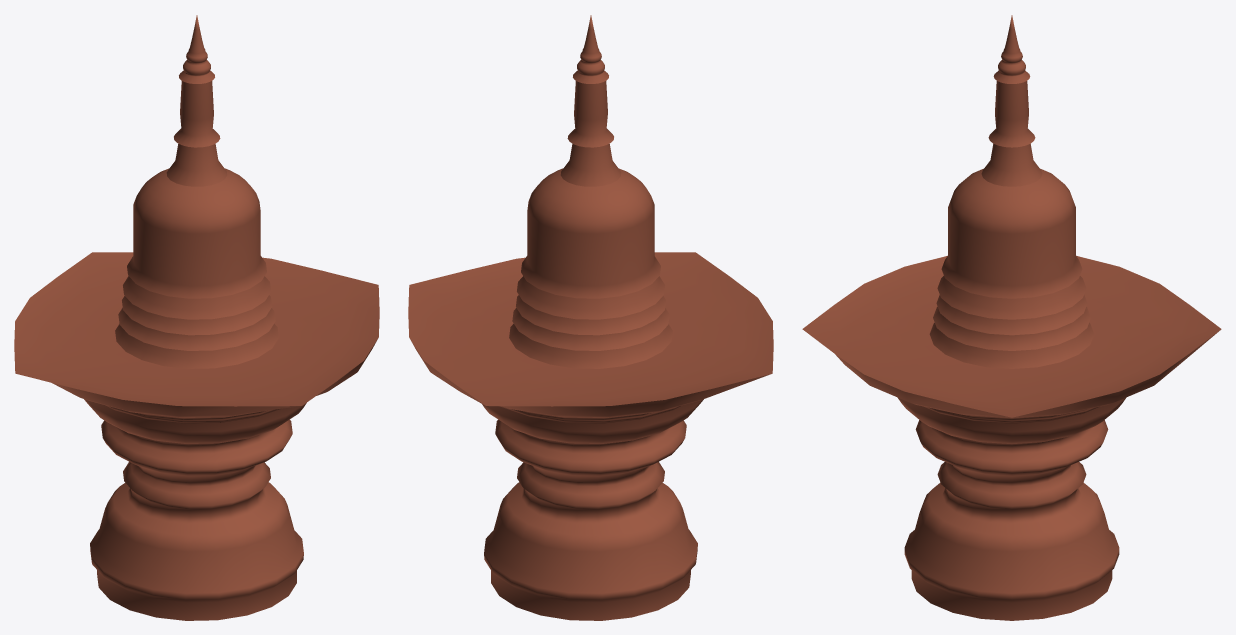
The model's file is Urn.fbx.
The picture shows the model from 3 angles, left to right: view 1: azimuth 30°, elevation 25°; view 2: azimuth 150°, elevation 25°; view 3: azimuth 270°, elevation 25°; orthographic projection.
Visible parts, largest first — view 1: pCylinder1; view 2: pCylinder1; view 3: pCylinder1.
Boxes of the visible parts, left/top/right/bottom form: pCylinder1: left=14, top=15, right=379, bottom=620; pCylinder1: left=408, top=15, right=773, bottom=620; pCylinder1: left=802, top=15, right=1221, bottom=620.
Size of the model in its own units: 1.31 by 1.94 by 1.31.
